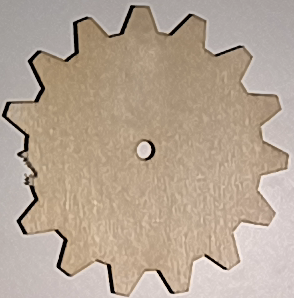Missing: (1, 146, 43, 190)
